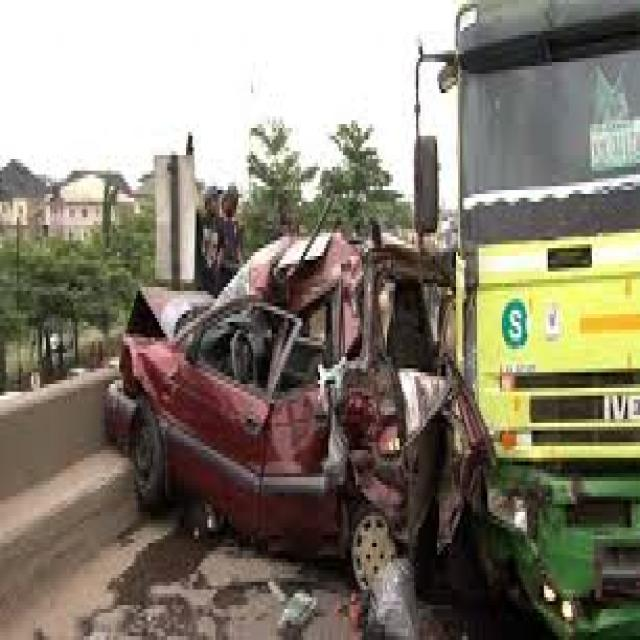accident: (96, 193, 506, 620)
